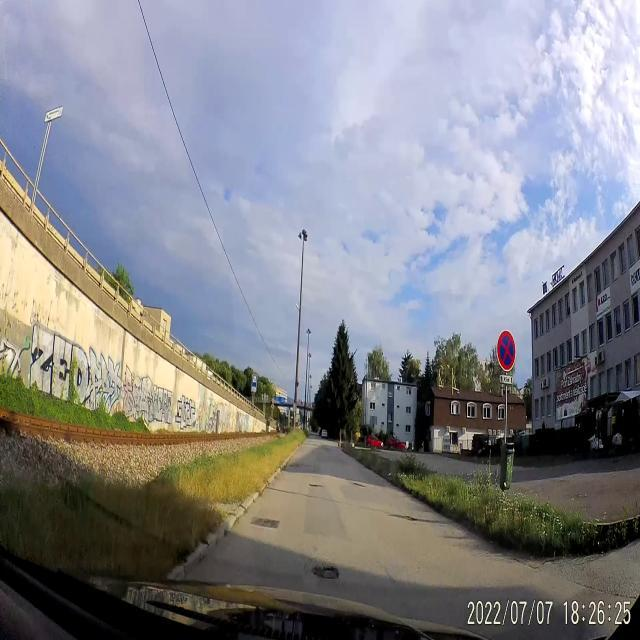Manhole: (250, 516, 280, 530)
Pothole: (388, 509, 426, 529), (310, 560, 340, 584), (308, 482, 326, 490), (350, 480, 364, 490)
